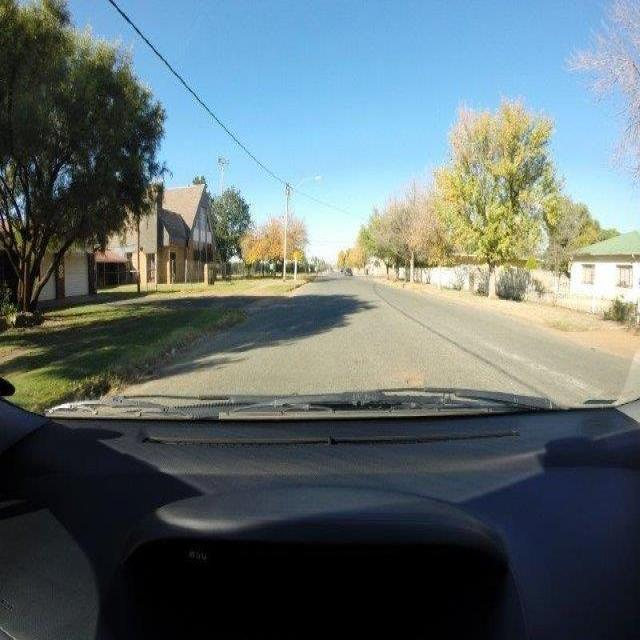lubang: (398, 372, 430, 392)
